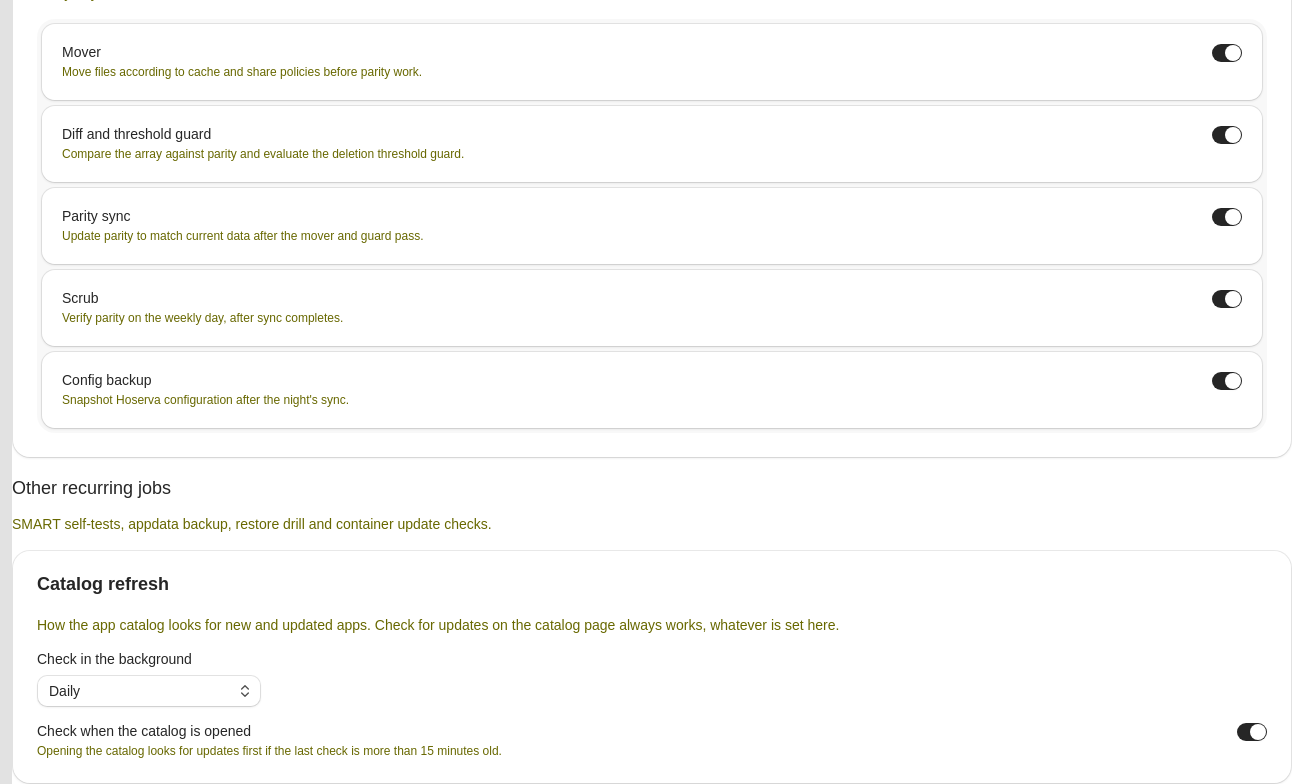
Test: Catalog refresh card on the schedules page › shows a rejected save as an error too
(page scrolled)
What coordinates should you click on to do the following:
click the switch named "Check when the catalog is opened"
I would click on:
 (1252, 732)
Its box is x1=1237 y1=723 x2=1267 y2=741.
(page scrolled)
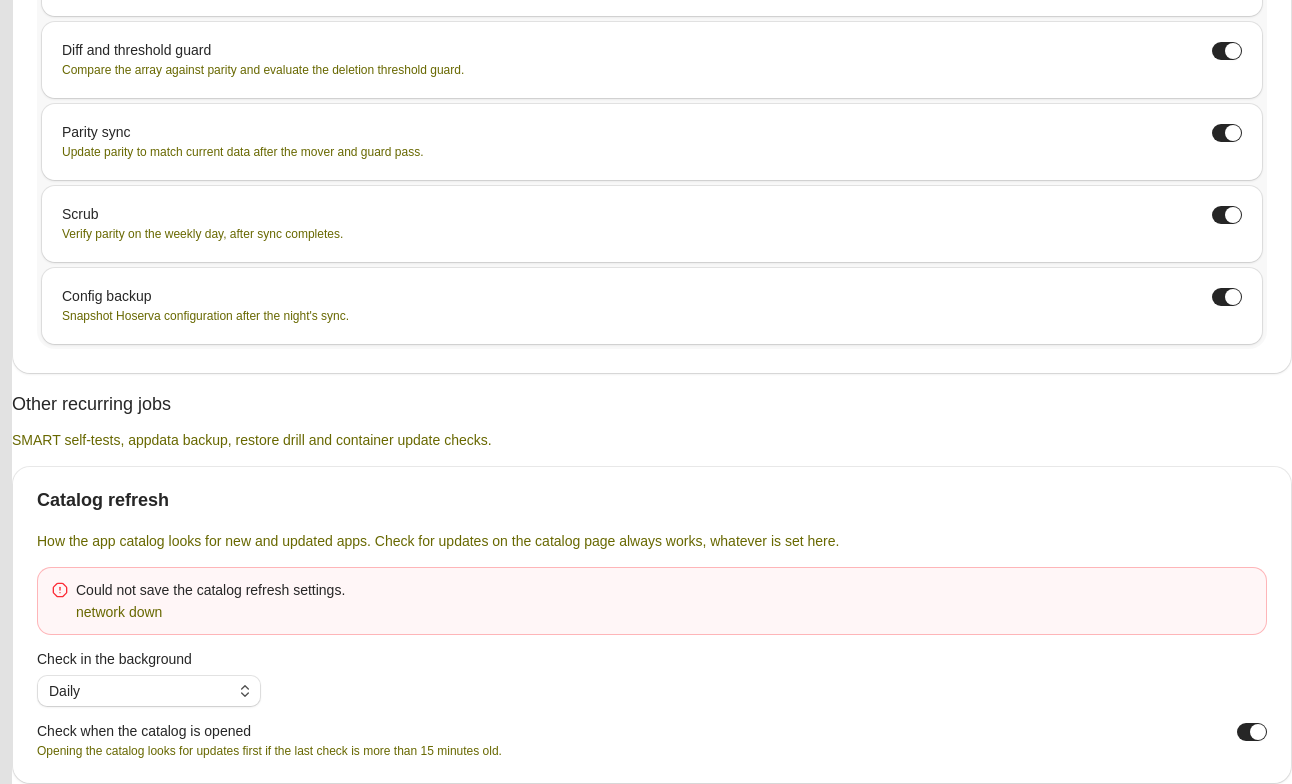
Expected: the text "network down" is shown, x1=76 y1=604 x2=162 y2=620
